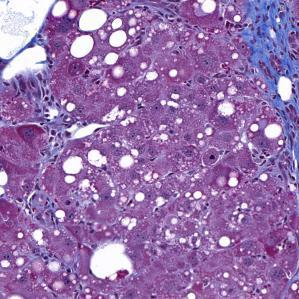fibrosis: (235, 3, 299, 106)
